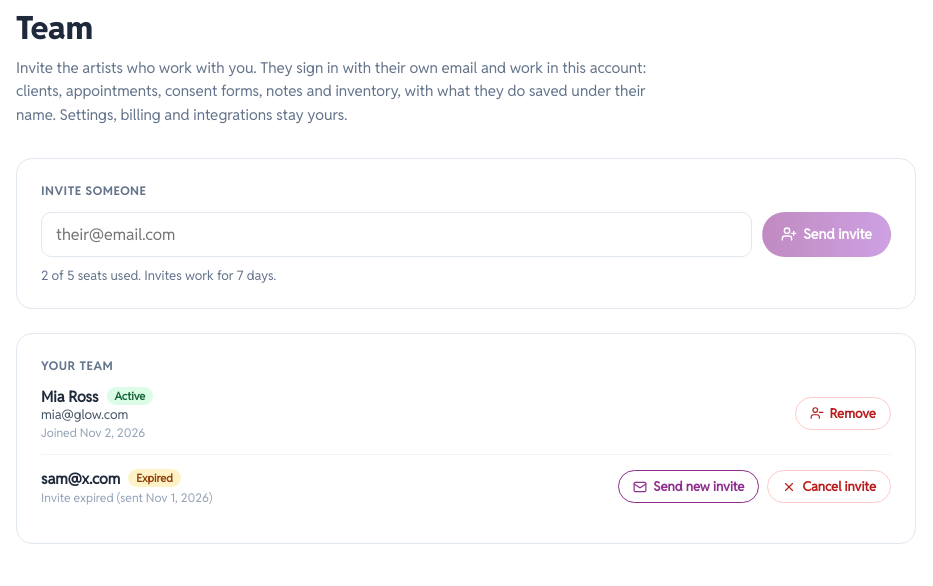
Team page › refuses an email that already has its own account, saying why
Expected: the list is shown, [41,387,891,519]
In the field named "Email to invite": (397, 234) [41,212,752,257], type "taken@x.com"
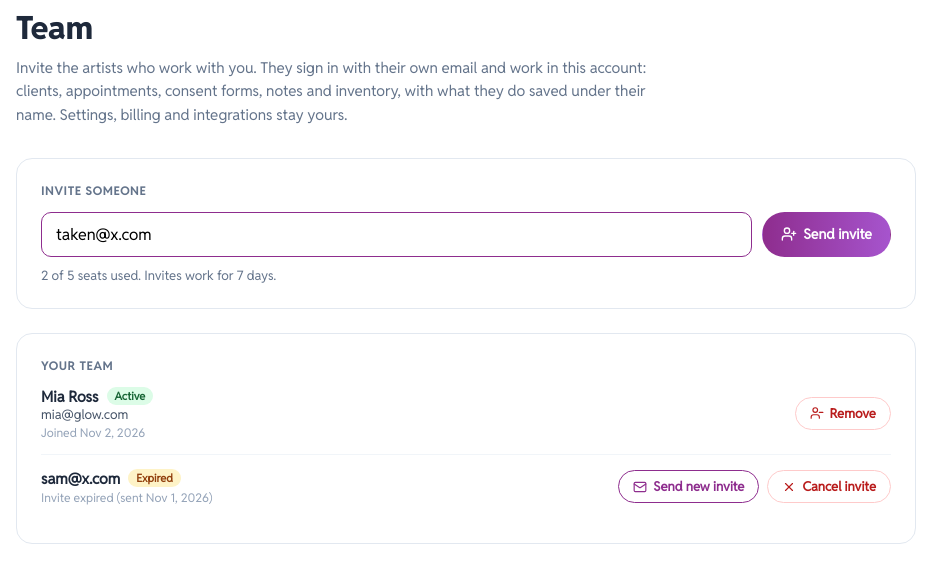
Click the button "Send invite": (827, 234) [762,212,891,257]
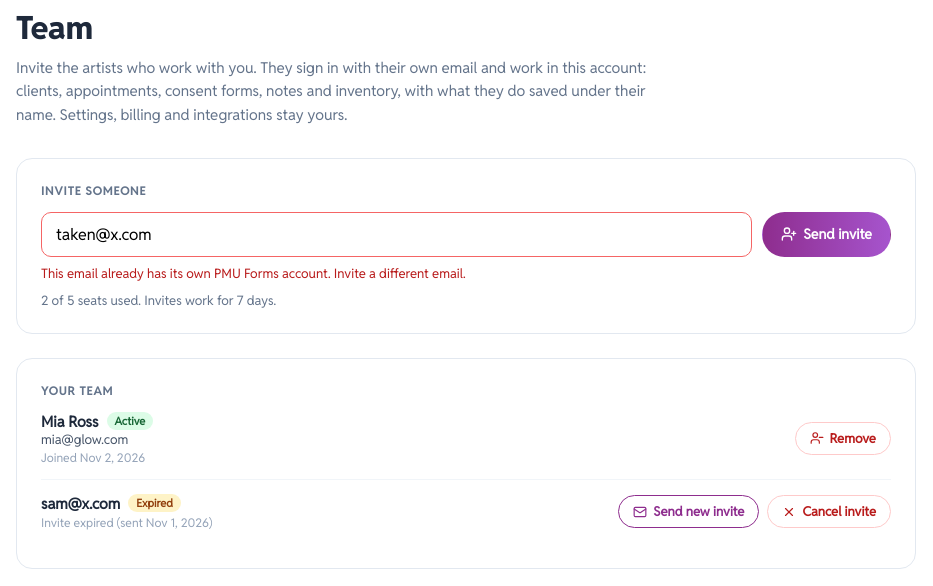
Expected: the message reads "This email already has its own PMU Forms account. Invite a different email.", [41,265,466,282]
